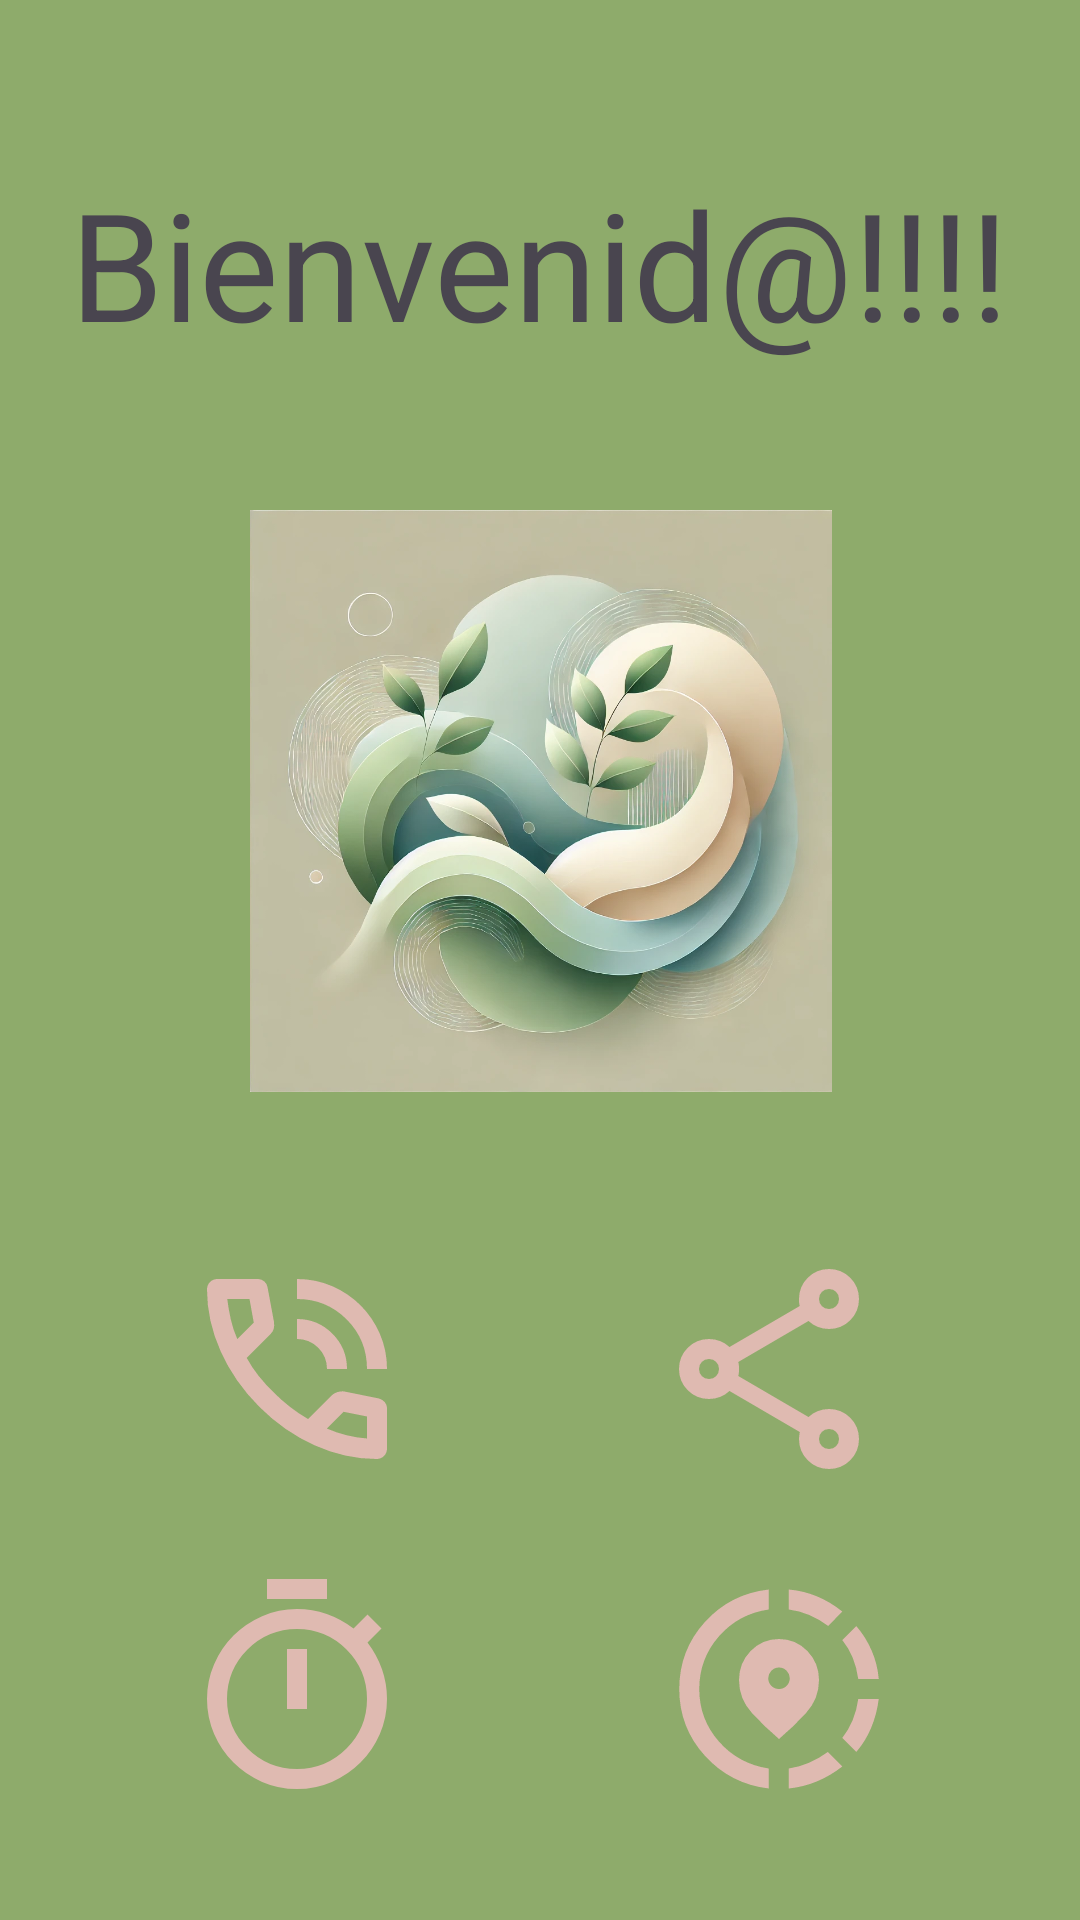

Where to tap for icons on this 1080px x 1920px app screen, as (x,y):
reloj: (297,1684)
telefono: (297,1369)
